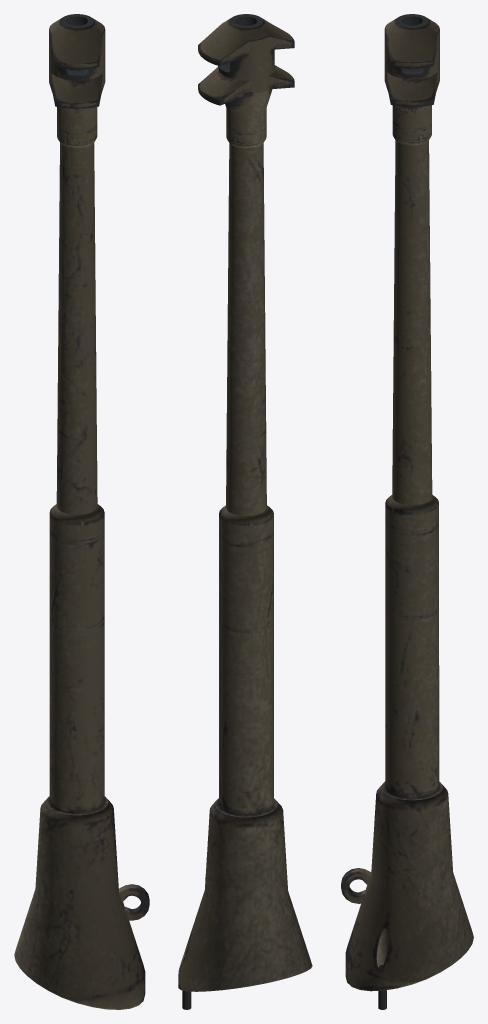
File: Gun_05.glb
3 renders of one model, left to right at view 1: azimuth 90°, elevation 25°; view 2: azimuth 210°, elevation 25°; view 3: azimuth 270°, elevation 25°, orthographic. The views are drawn at different scales.
Visible parts, largest first — view 1: set_0_group_0; view 2: set_0_group_0; view 3: set_0_group_0.
Boxes of the visible parts, <box> form: set_0_group_0: <box>14,14,149,1009</box>; set_0_group_0: <box>178,14,312,1009</box>; set_0_group_0: <box>341,14,473,1009</box>.
Bounding box in the file's own units: 0.6448 × 5.15 × 0.6419.
Materials: 1 (1 with a texture image).
